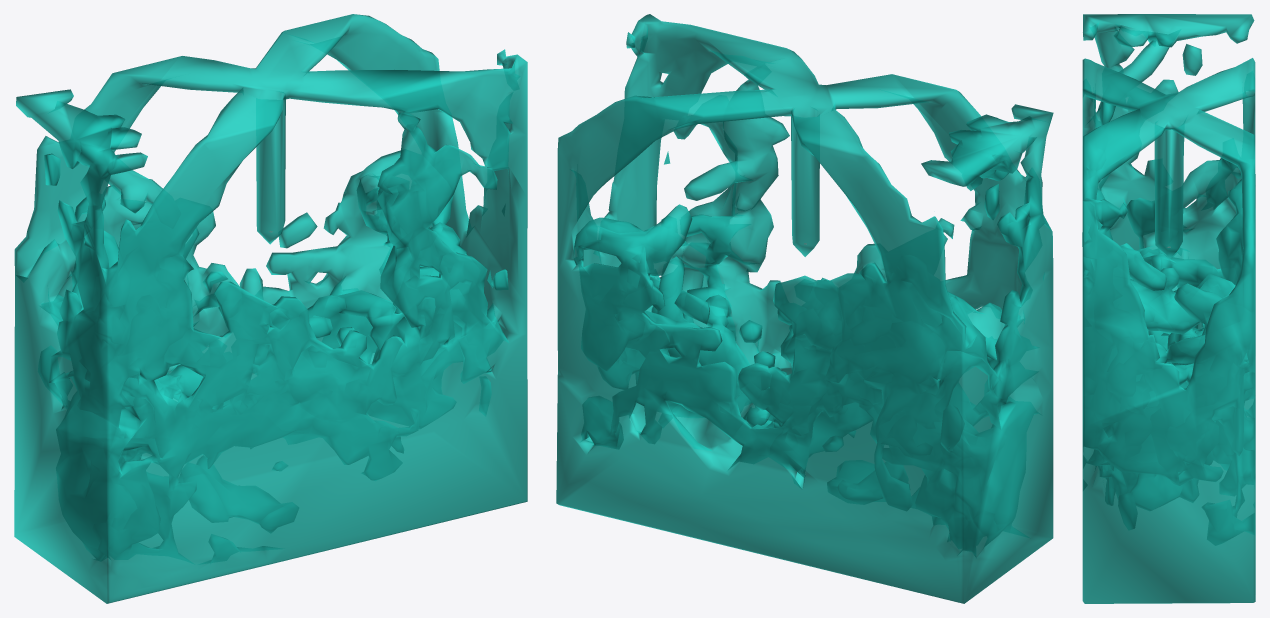
3 renders of one model, left to right at view 1: azimuth 30°, elevation 25°; view 2: azimuth 150°, elevation 25°; view 3: azimuth 270°, elevation 25°, orthographic. The views are drawn at different scales.
Parts seen in each view (by area): view 1: Liquid_Domain; view 2: Liquid_Domain; view 3: Liquid_Domain.
Boxes of the visible parts, x1,y1,x2,y2 form: Liquid_Domain: (14, 14, 527, 603); Liquid_Domain: (556, 14, 1053, 603); Liquid_Domain: (1082, 14, 1255, 603).
Bounding box in the file's own units: 884 × 884 × 345.
